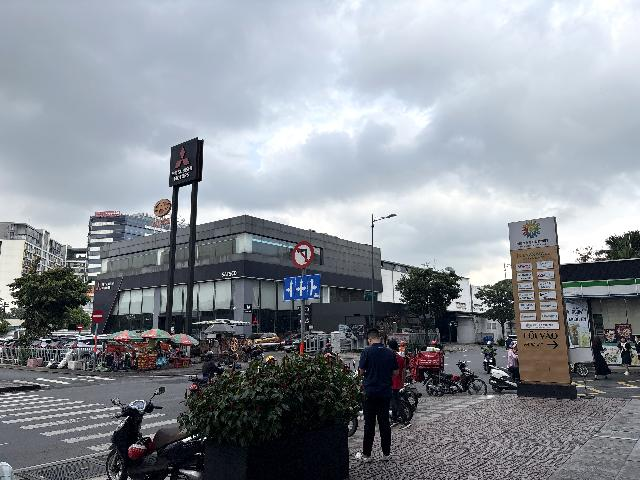cam-di-nguoc-chieu: (92, 309, 103, 323)
cam-re-trai: (292, 241, 314, 268)
